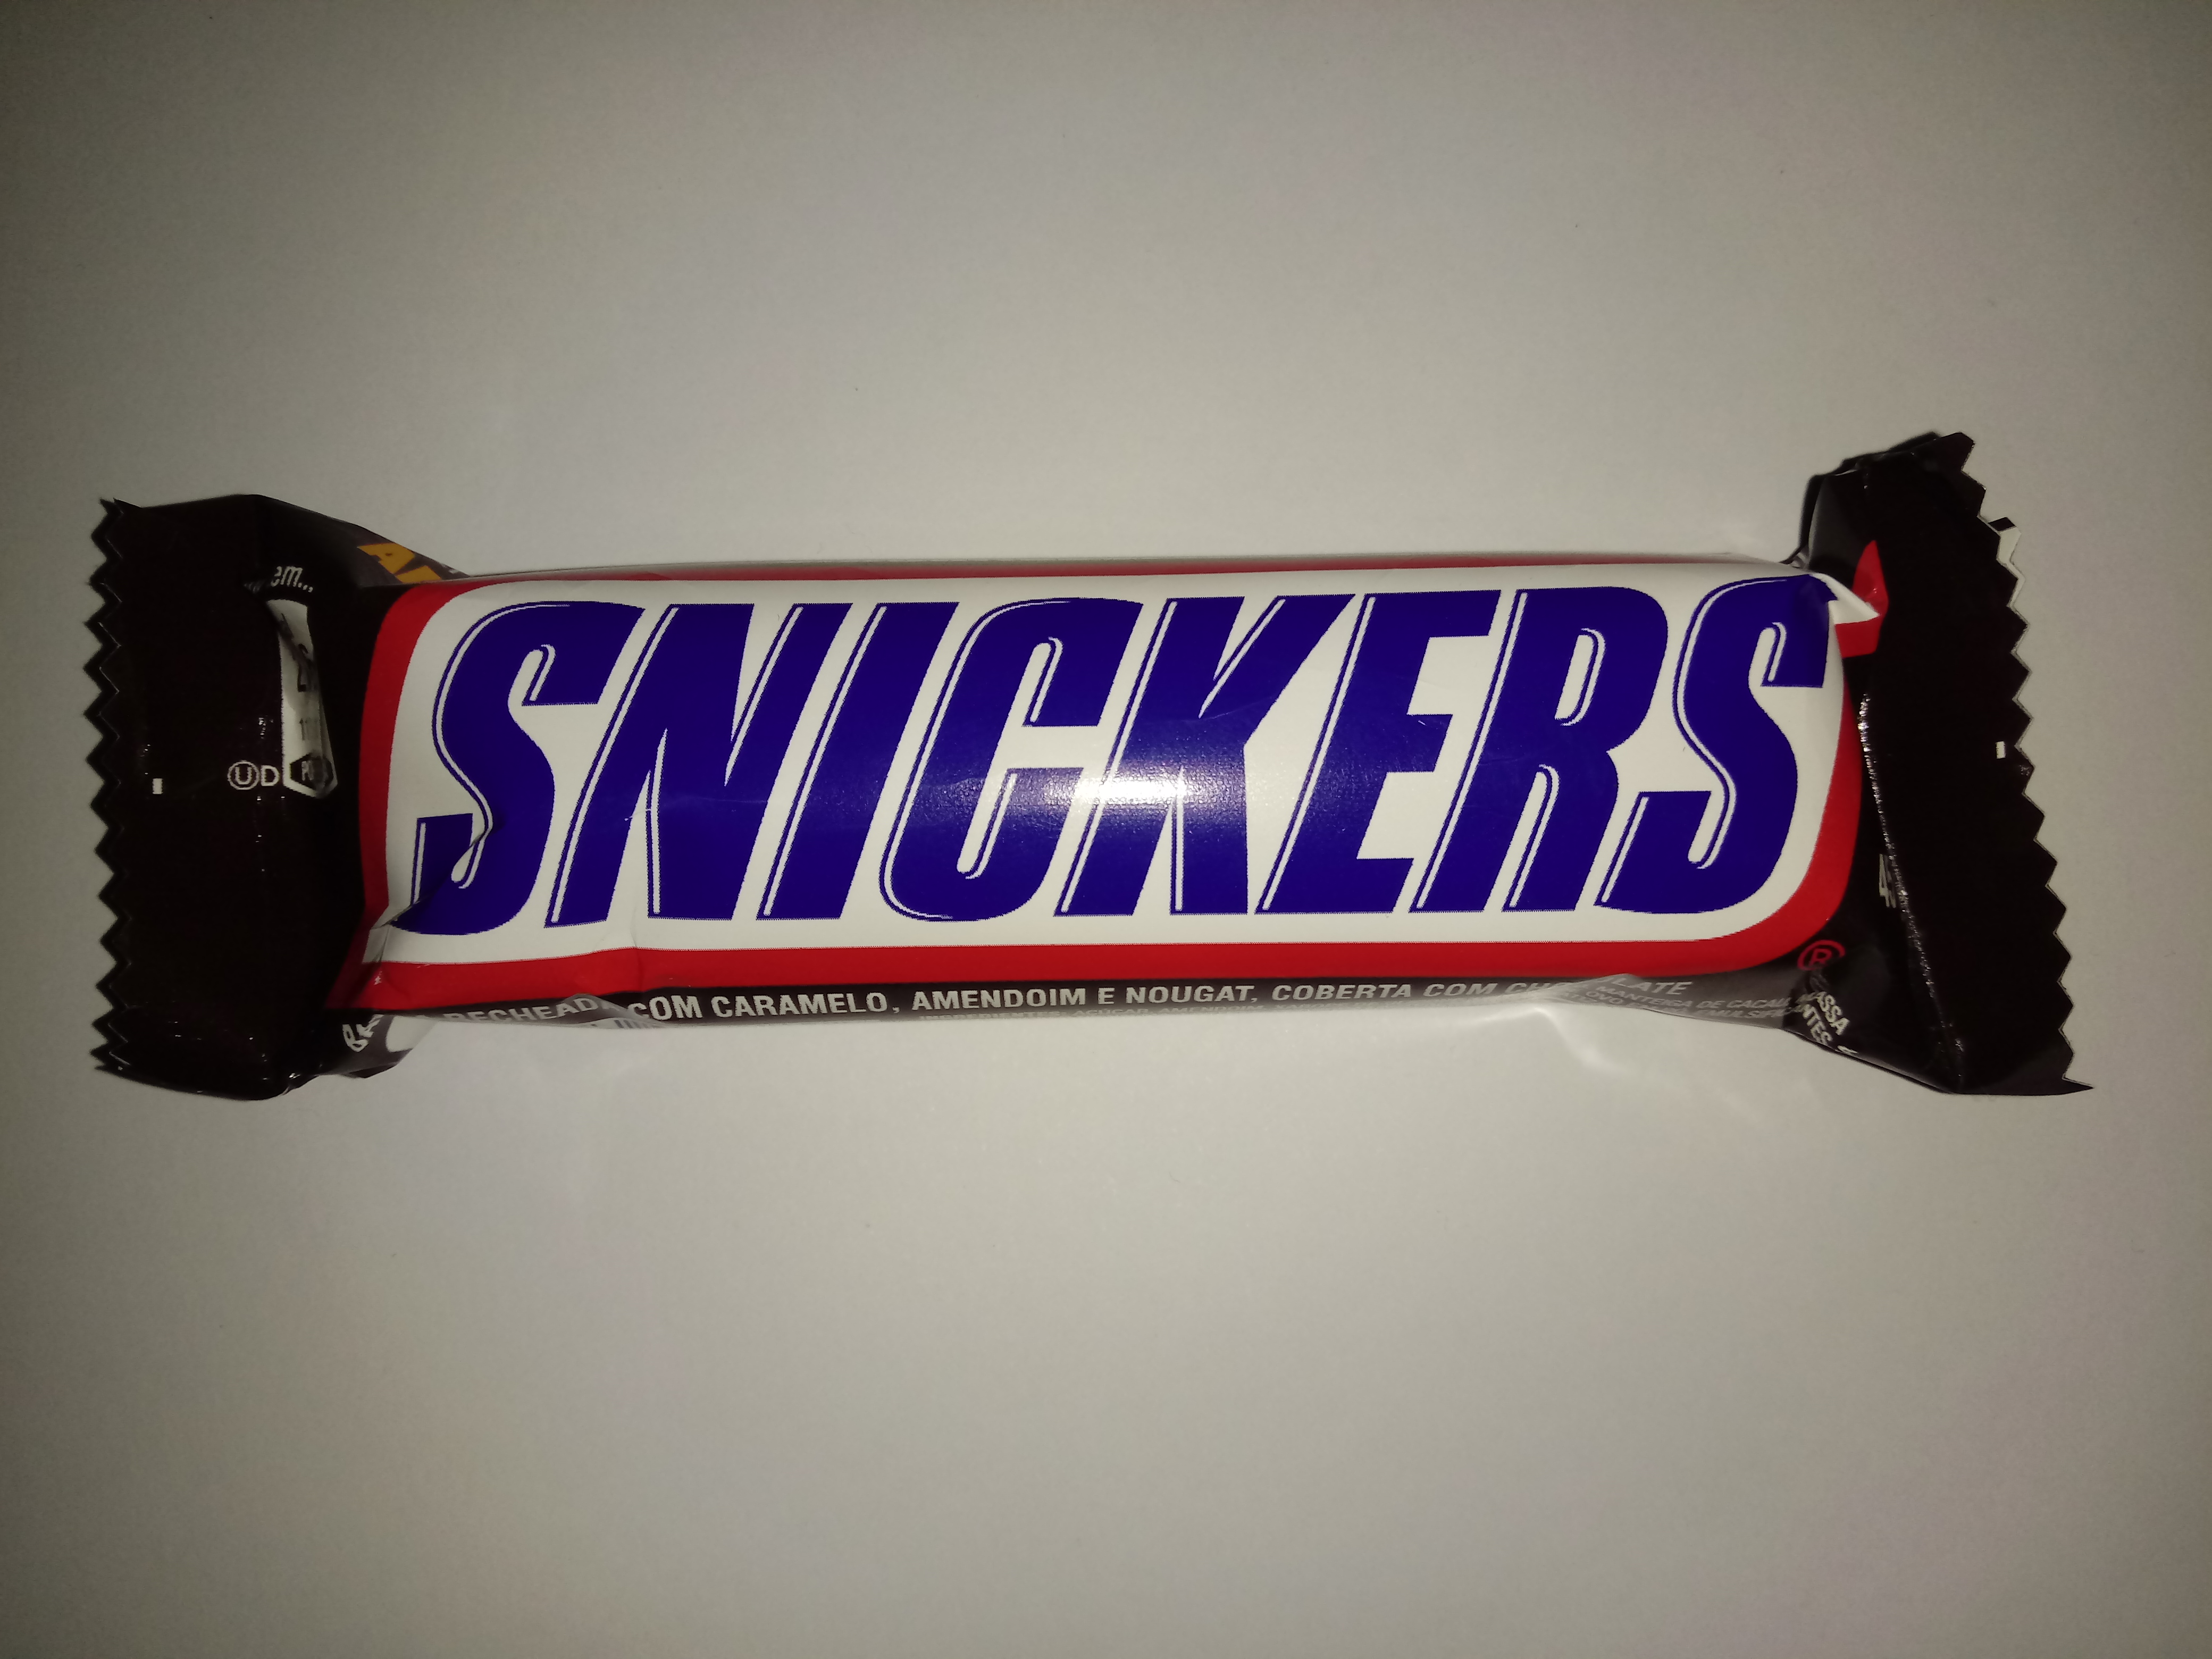snickers: (59, 418, 2101, 1112)
